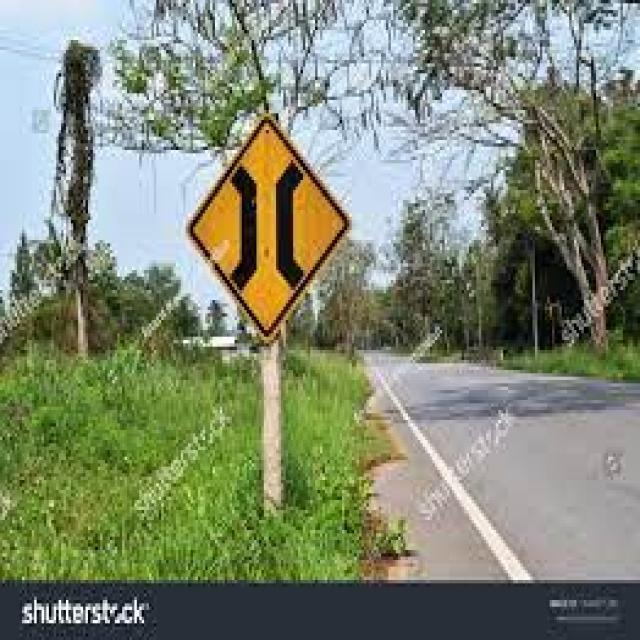narrow bridge ahead: (182, 116, 350, 346)
